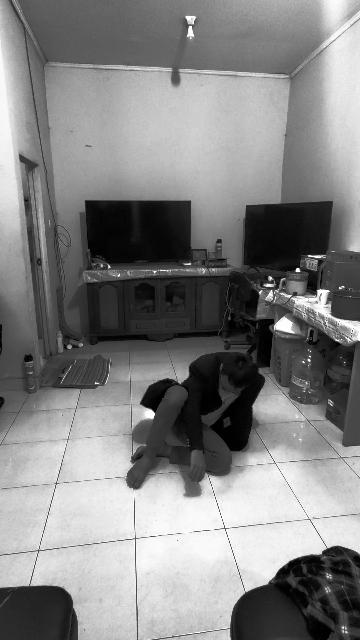jatuh: (131, 350, 257, 490)
